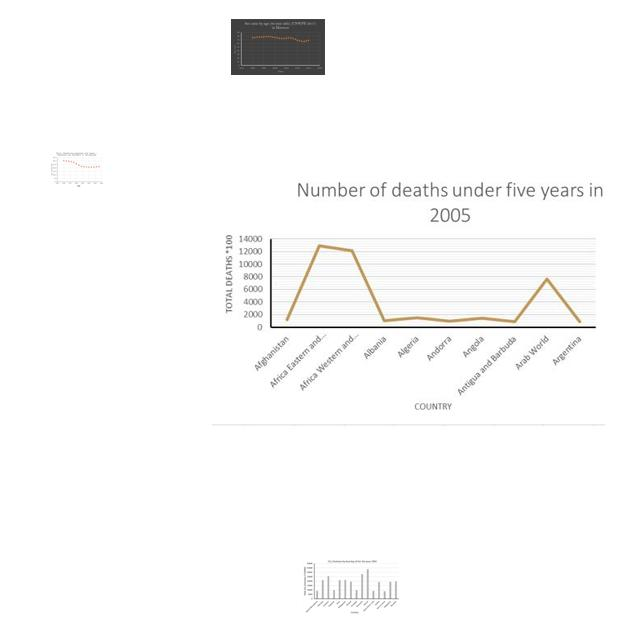Graph: (212, 169, 605, 426), (303, 559, 400, 614), (231, 19, 325, 75), (50, 152, 104, 187)
